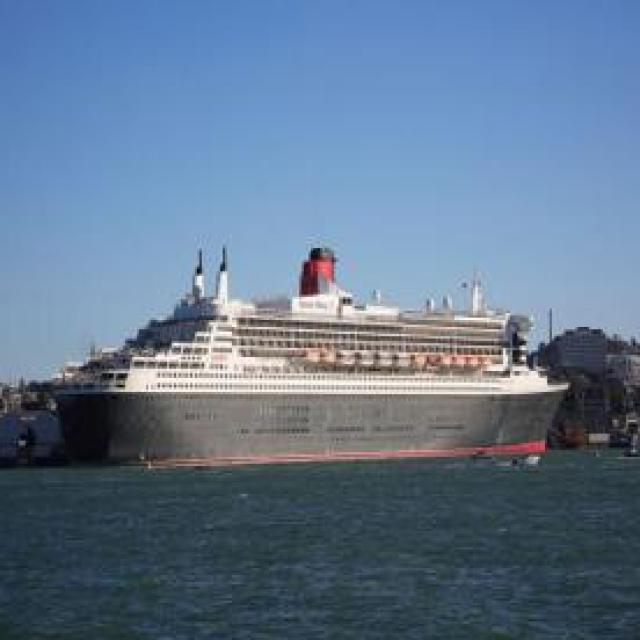passenger ship: (70, 256, 560, 469)
